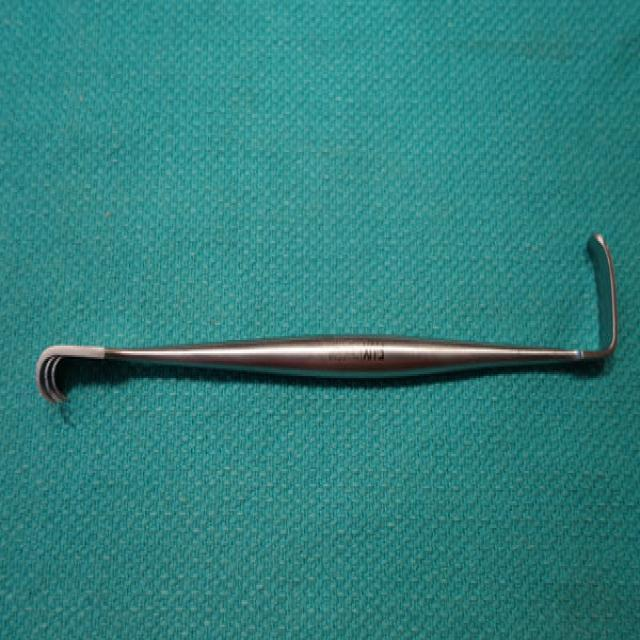Senn Retractor: (32, 219, 625, 419)
